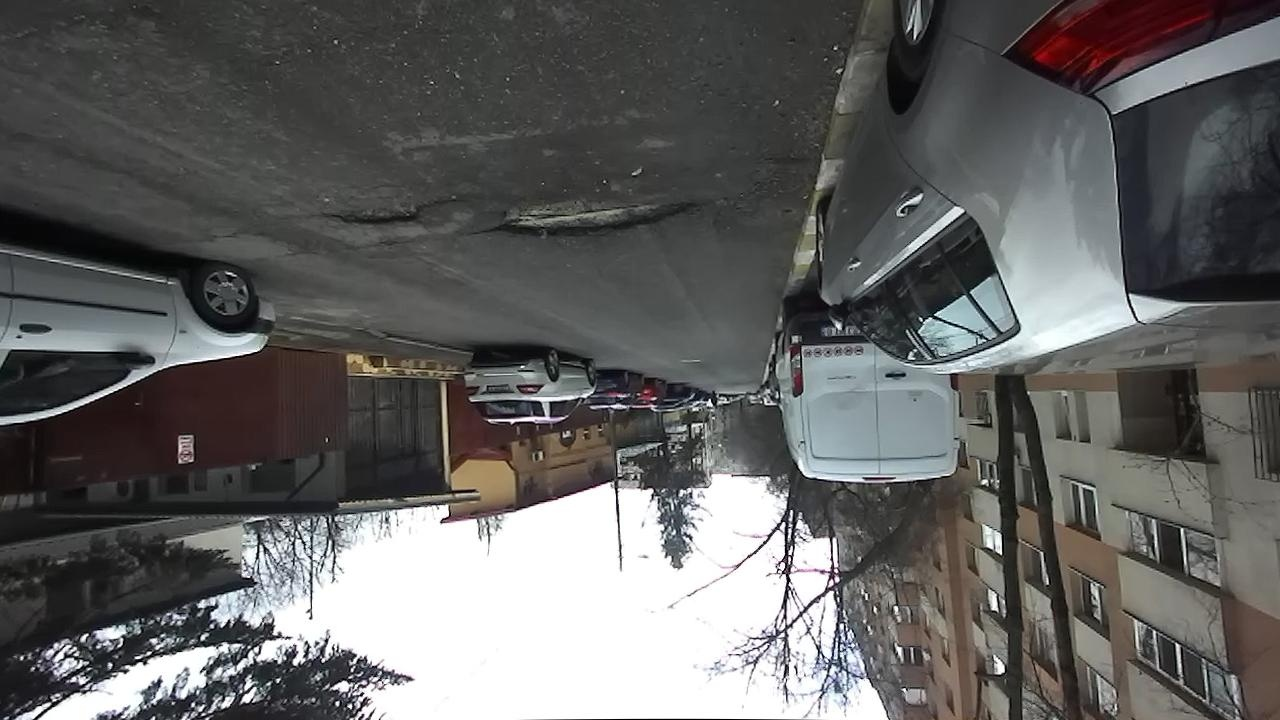pothole: (465, 182, 710, 241), (322, 191, 461, 229)
